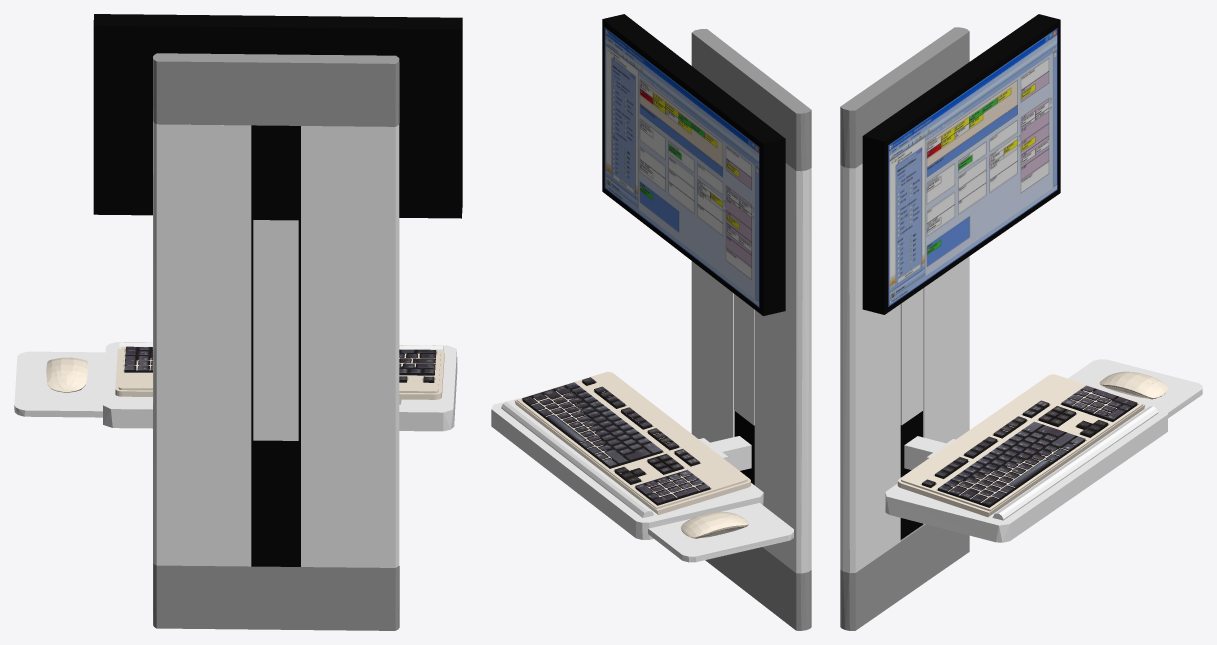
File: Wand-PC.fbx
3 views of the same model, side by side, from view 1: azimuth 30°, elevation 25°; view 2: azimuth 150°, elevation 25°; view 3: azimuth 270°, elevation 25° (orthographic). The views are drawn at different scales.
Parts seen in each view (by area): view 1: Farbe, weiß, Farbe, schwarz, Farbe, grau, Kunststoff-Spanplatte, GDLM52_letterkeysmat, GDLM54_numpadmat; view 2: Farbe, weiß, Plakatwerbung ec239e71870456c2500dd4a4a1d3e44f, Farbe, schwarz, Farbe, grau, Kunststoff-Spanplatte, GDLM52_letterkeysmat, GDLM51_antracite, GDLM54_numpadmat; view 3: Farbe, weiß, Plakatwerbung ec239e71870456c2500dd4a4a1d3e44f, Farbe, grau, Farbe, schwarz, Kunststoff-Spanplatte, GDLM52_letterkeysmat, GDLM51_antracite, GDLM54_numpadmat.
Part boxes in pixels (left/top/right/bottom): Farbe, weiß: left=14, top=121, right=457, bottom=567; Farbe, schwarz: left=93, top=14, right=462, bottom=566; Farbe, grau: left=153, top=53, right=399, bottom=630; Kunststoff-Spanplatte: left=46, top=347, right=444, bottom=404; GDLM52_letterkeysmat: left=399, top=349, right=436, bottom=373; GDLM54_numpadmat: left=124, top=346, right=152, bottom=370; Farbe, weiß: left=491, top=163, right=811, bottom=573; Plakatwerbung ec239e71870456c2500dd4a4a1d3e44f: left=604, top=27, right=759, bottom=307; Farbe, schwarz: left=602, top=14, right=785, bottom=484; Farbe, grau: left=691, top=29, right=811, bottom=630; Kunststoff-Spanplatte: left=514, top=371, right=750, bottom=538; GDLM52_letterkeysmat: left=522, top=382, right=662, bottom=466; GDLM51_antracite: left=522, top=377, right=710, bottom=505; GDLM54_numpadmat: left=635, top=470, right=709, bottom=503; Farbe, weiß: left=840, top=163, right=1202, bottom=573; Plakatwerbung ec239e71870456c2500dd4a4a1d3e44f: left=888, top=28, right=1057, bottom=306; Farbe, grau: left=840, top=27, right=969, bottom=630; Farbe, schwarz: left=862, top=14, right=1060, bottom=539; Kunststoff-Spanplatte: left=897, top=371, right=1167, bottom=517; GDLM52_letterkeysmat: left=938, top=421, right=1084, bottom=505; GDLM51_antracite: left=922, top=389, right=1137, bottom=507; GDLM54_numpadmat: left=1062, top=385, right=1136, bottom=419.
Size of the model in its own units: 63.83 by 56.79 by 91.
Materials: 16 (11 with a texture image).
